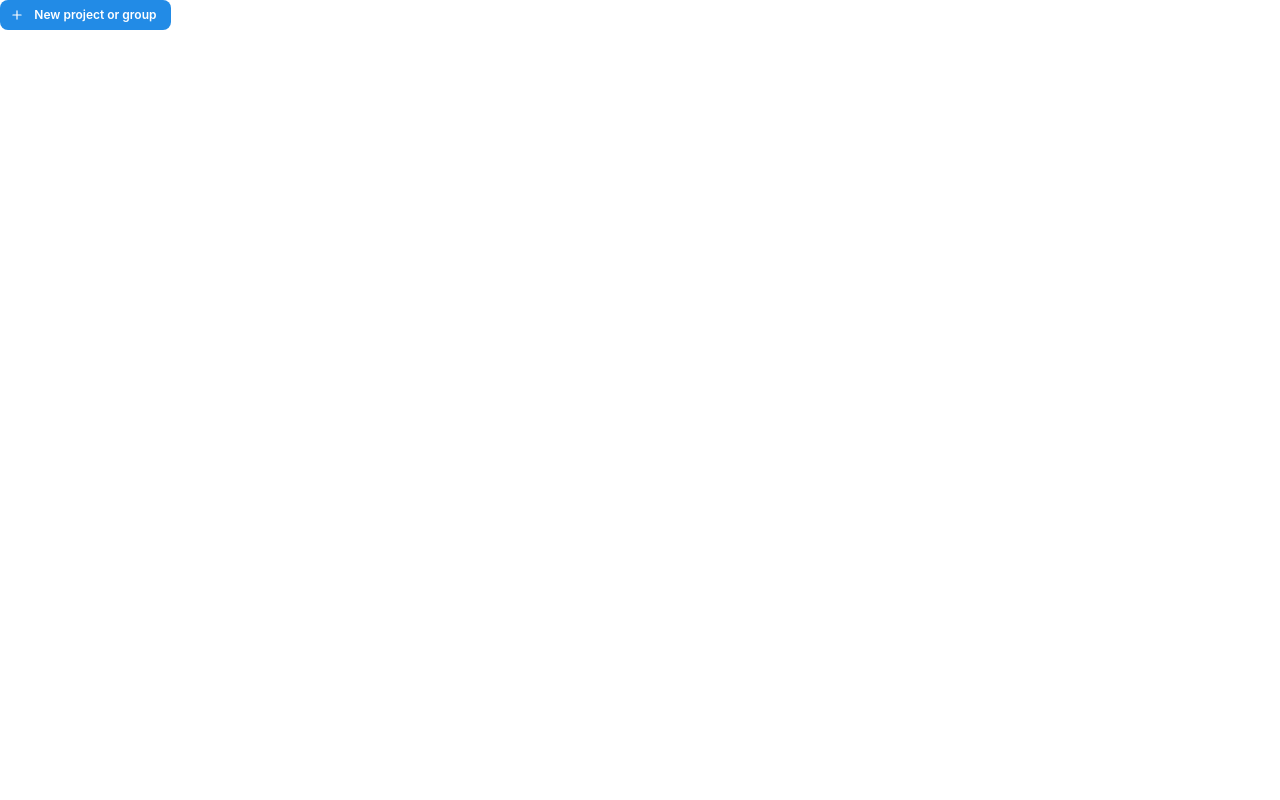
Test: NewProject › creates a project in the chosen root with the details typed
Later steps or results of the test are not shown.
Click the button "New project or group" at (86, 15), box top-left (0, 0), bottom-right (172, 30)
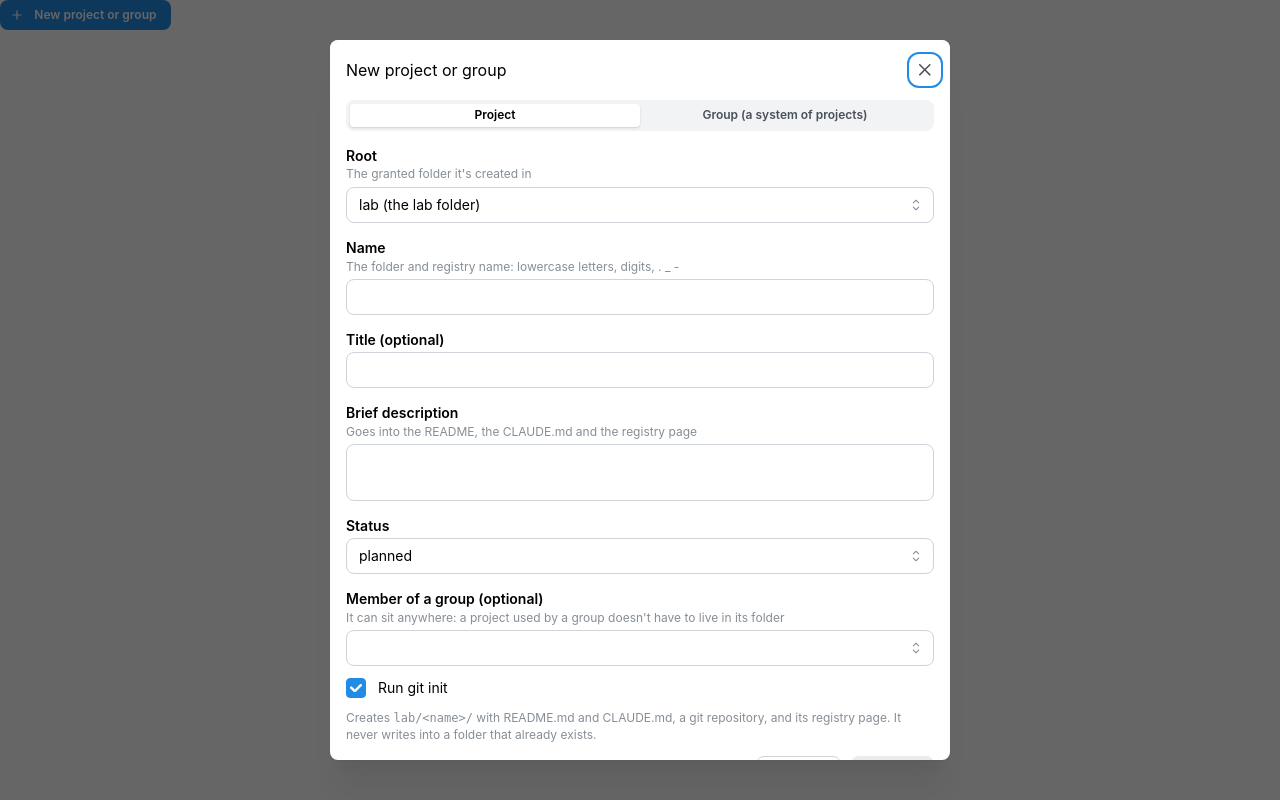
Type "fresh" into the field labelled "Name" at (640, 297), box top-left (346, 279), bottom-right (934, 315)
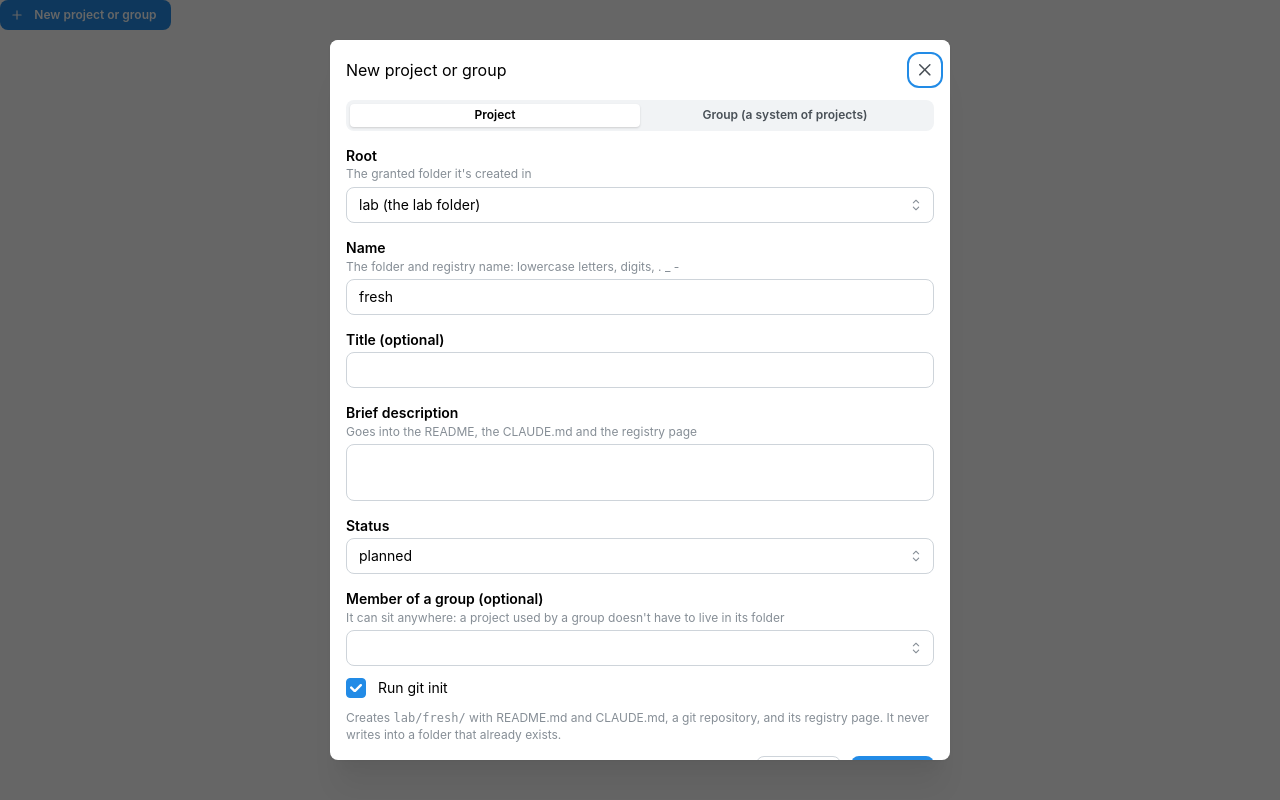
Type "A brief one." into the text box labelled "Brief description" at (640, 472), box top-left (346, 444), bottom-right (934, 501)
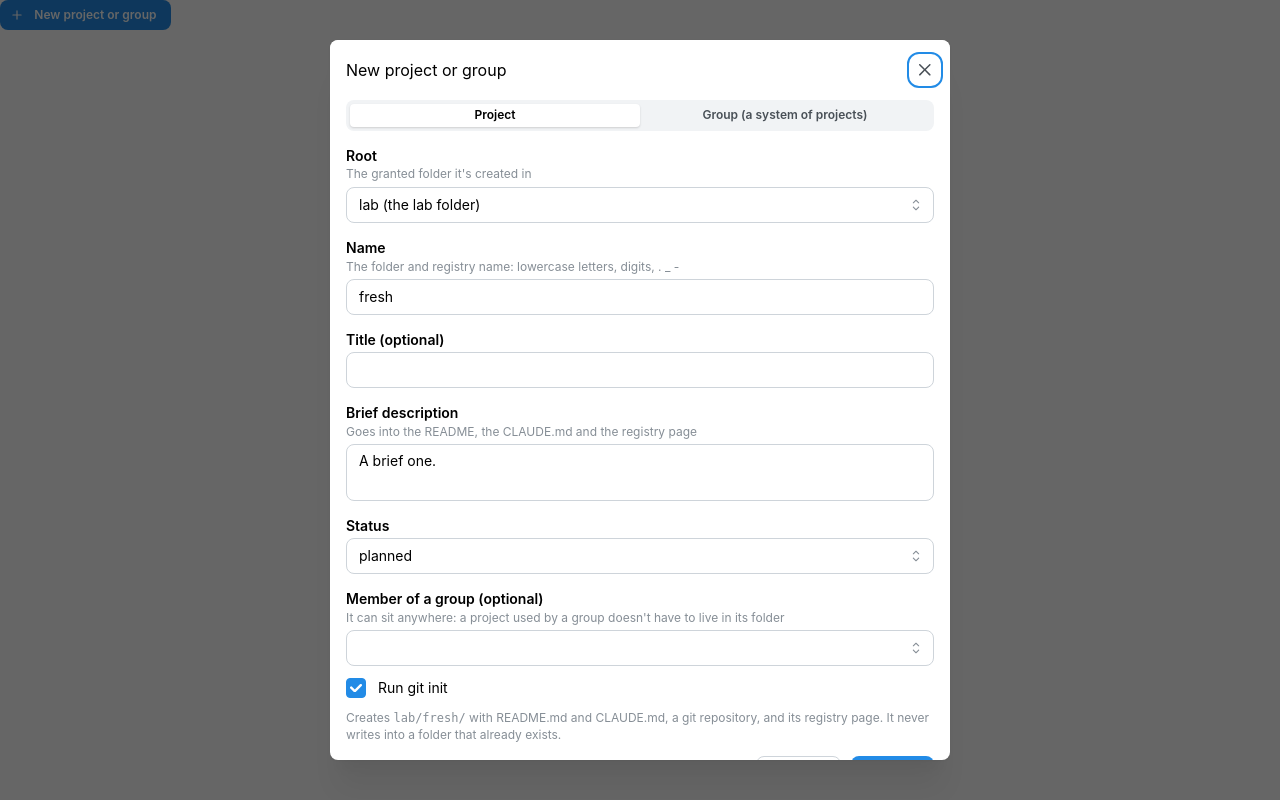
Expected: the text "lab/fresh/" is shown, top-left (394, 711), bottom-right (466, 725)
